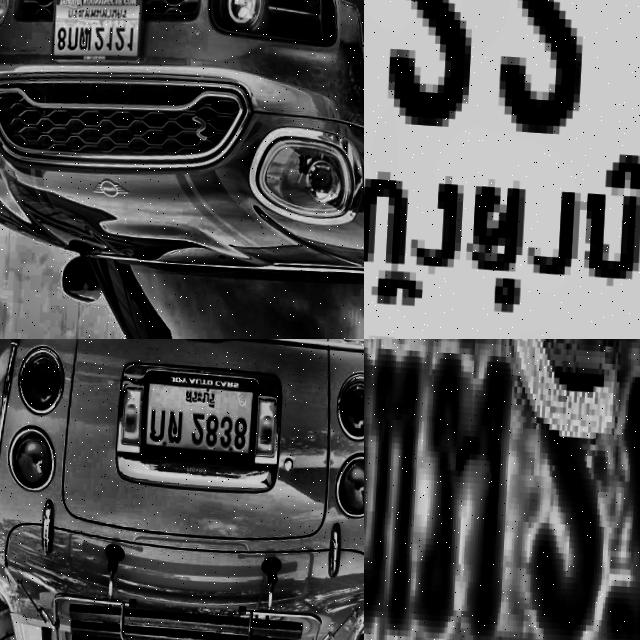license-plate: (364, 0, 640, 339), (364, 339, 640, 640), (142, 367, 259, 461), (52, 0, 146, 72)
